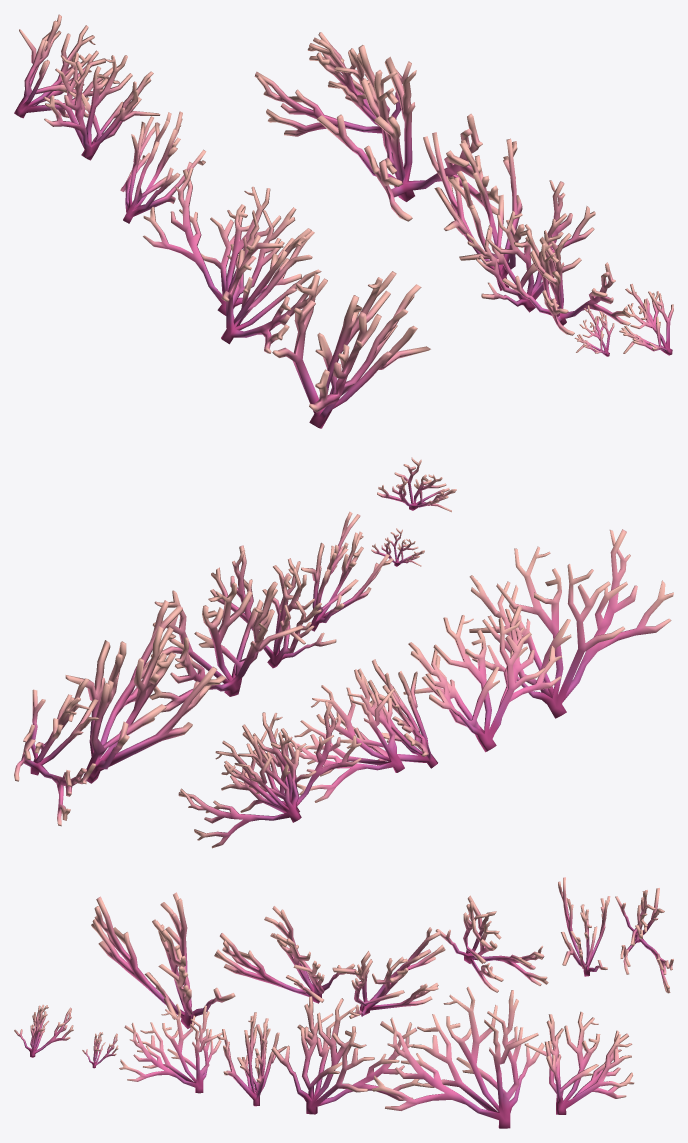
File: stageObject_14.fbx
3 renders of one model, top to bottom at view 1: azimuth 30°, elevation 25°; view 2: azimuth 150°, elevation 25°; view 3: azimuth 270°, elevation 25°, orthographic. The views are drawn at different scales.
Visible parts, largest first — view 1: sango7_3; view 2: sango7_3; view 3: sango7_3.
Boxes of the visible parts, x1,y1,x2,y2 form: sango7_3: (14,14,673,428); sango7_3: (14,457,673,848); sango7_3: (14,877,673,1128).
Size of the model in its own units: 339 by 161 by 637.
1 material, 1 textured.
